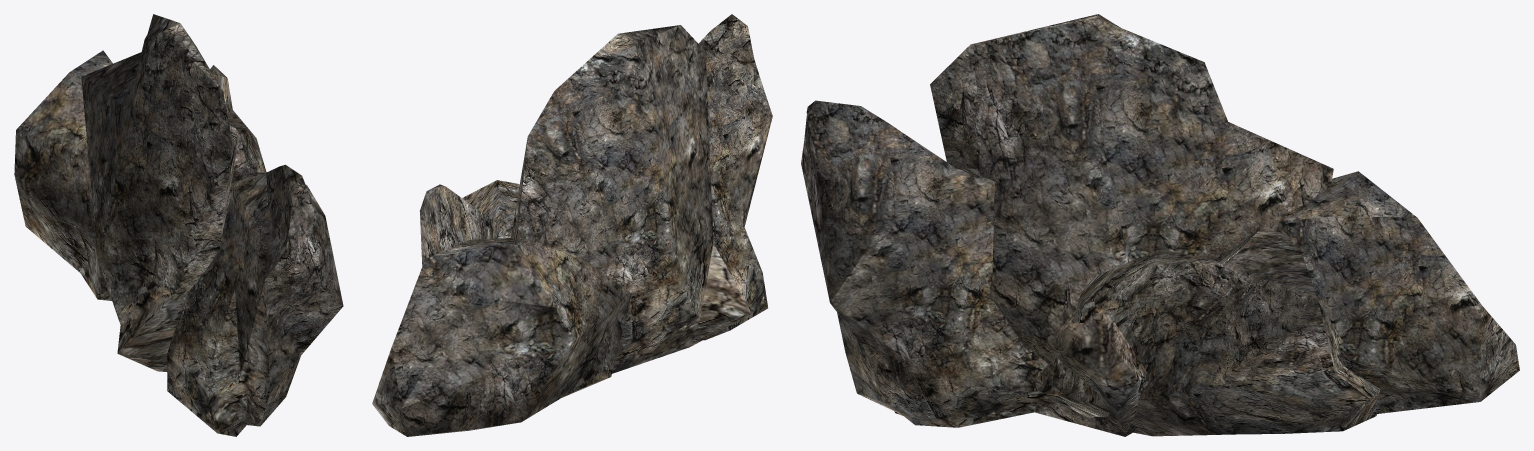
The model's file is pir_m_prp_cav_rockGroup_d.fbx.
3 renders of one model, left to right at view 1: azimuth 30°, elevation 25°; view 2: azimuth 150°, elevation 25°; view 3: azimuth 270°, elevation 25°, orthographic. The views are drawn at different scales.
Parts seen in each view (by area): view 1: rock3, rock4, rock2, rock1; view 2: rock3, rock2, rock4, rock1; view 3: rock3, rock4, rock1, rock2.
Part boxes in pixels (box(x1,y1,x2,y2)): rock3: box(81, 14, 249, 371); rock4: box(167, 164, 343, 436); rock2: box(14, 50, 112, 300); rock1: box(210, 65, 266, 172); rock3: box(511, 25, 751, 373); rock2: box(372, 238, 631, 436); rock4: box(698, 14, 772, 340); rock1: box(419, 180, 519, 265); rock3: box(930, 14, 1333, 436); rock4: box(801, 100, 1062, 427); rock1: box(1037, 228, 1380, 436); rock2: box(1274, 171, 1519, 414).
Bounding box in the file's own units: 3369 × 5280 × 8353.
1 material, 1 textured.
